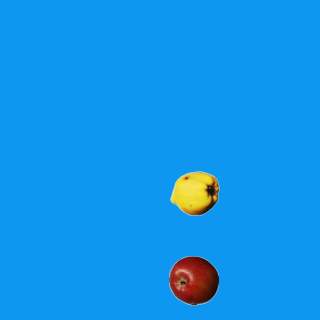Apple Braeburn: (168, 255, 218, 305)
Quince: (169, 168, 219, 218)
